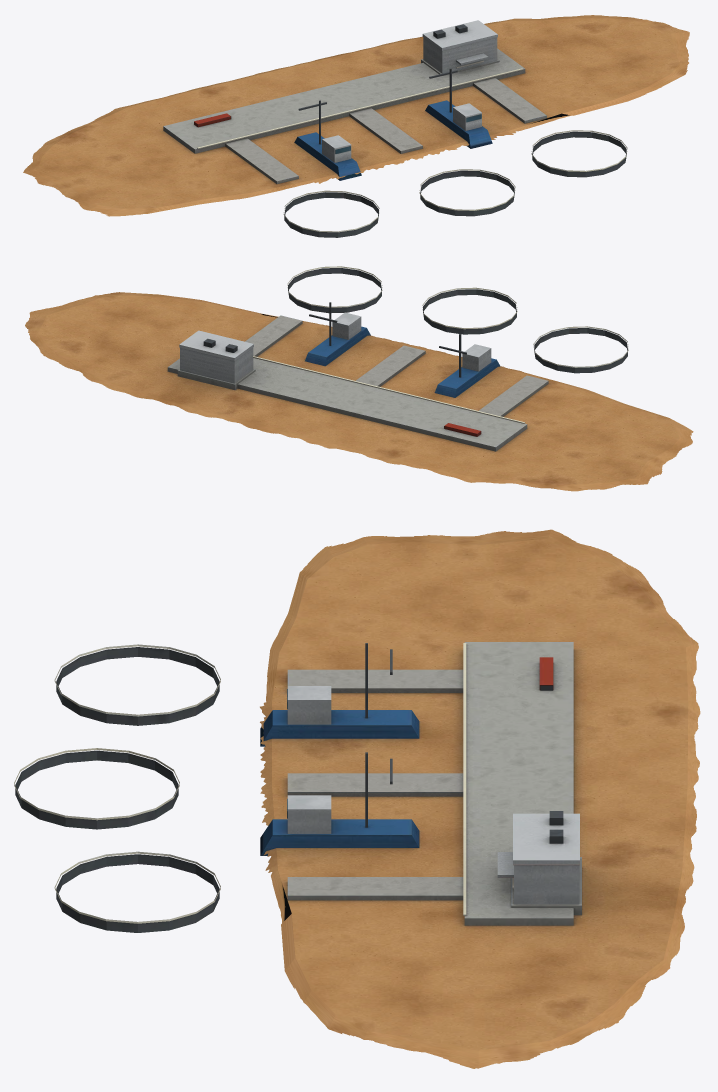
The model's file is fishing_boats-information.glb.
The picture shows the model from 3 angles, top to bottom: view 1: azimuth 30°, elevation 25°; view 2: azimuth 150°, elevation 25°; view 3: azimuth 270°, elevation 25°; orthographic projection. The views are drawn at different scales.
Visible parts, largest first — view 1: LOD0; view 2: LOD0; view 3: LOD0.
Part boxes in pixels (left/top/right/bottom): LOD0: left=23, top=15, right=689, bottom=237; LOD0: left=25, top=266, right=693, bottom=491; LOD0: left=14, top=529, right=700, bottom=1068.
Size of what is drawn, in the model's own units: 4.78 by 0.3801 by 2.53.
Materials: 2 (2 with a texture image).
